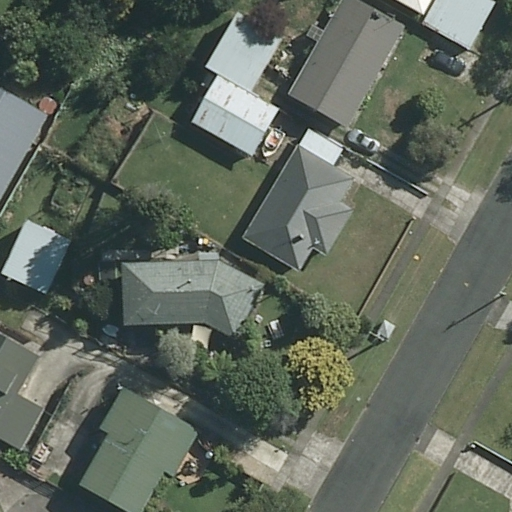DT: (489, 283, 508, 303)
